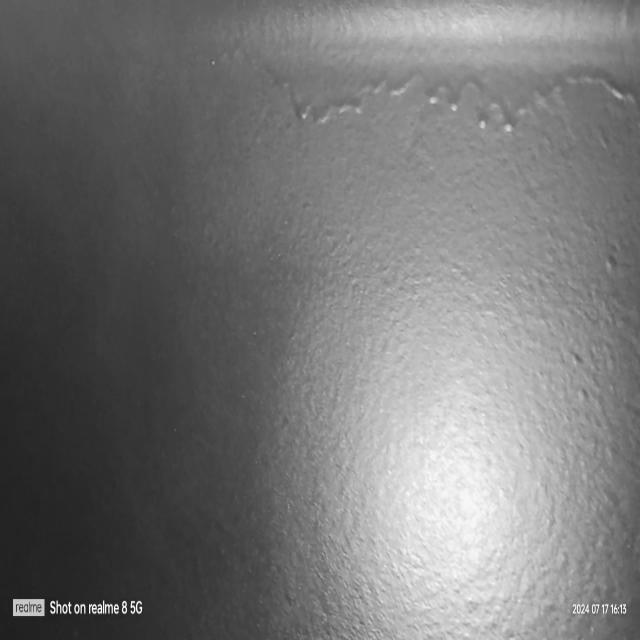paint drips: (252, 9, 640, 148)
